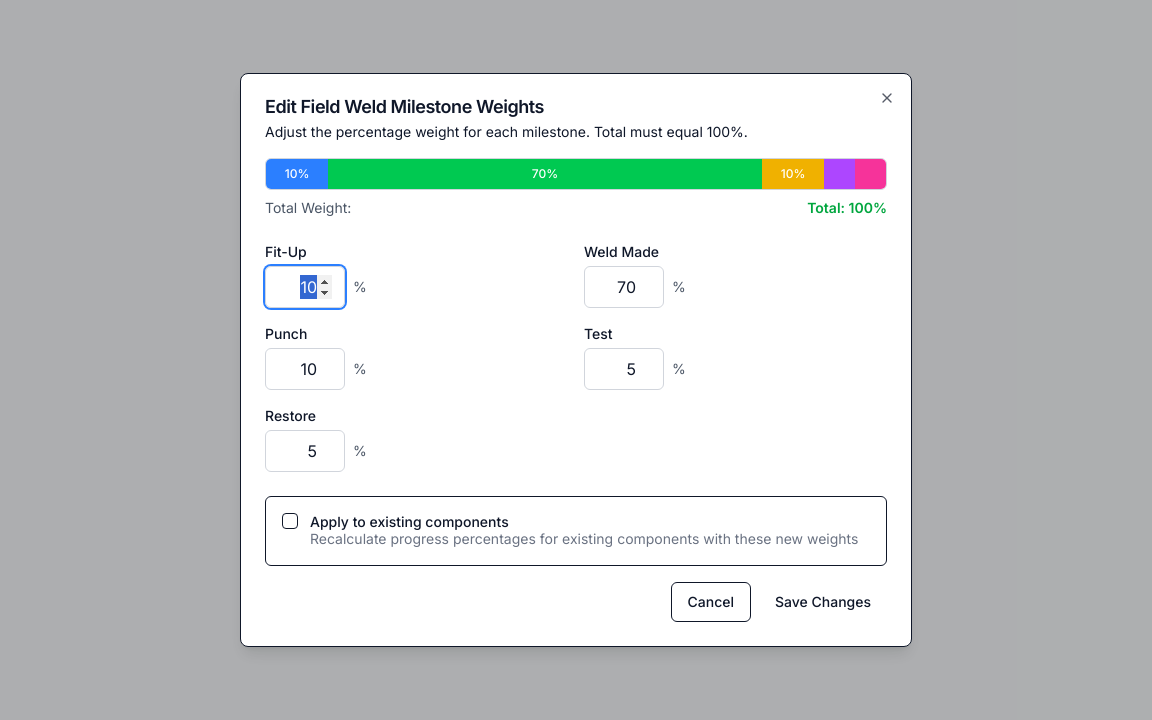
Test: TemplateEditor › displays affected component count when checkbox is checked (US3)
Check "Apply to existing components" checkbox
Click the checkbox named "apply to existing" at (290, 521), box [282,513,298,529]
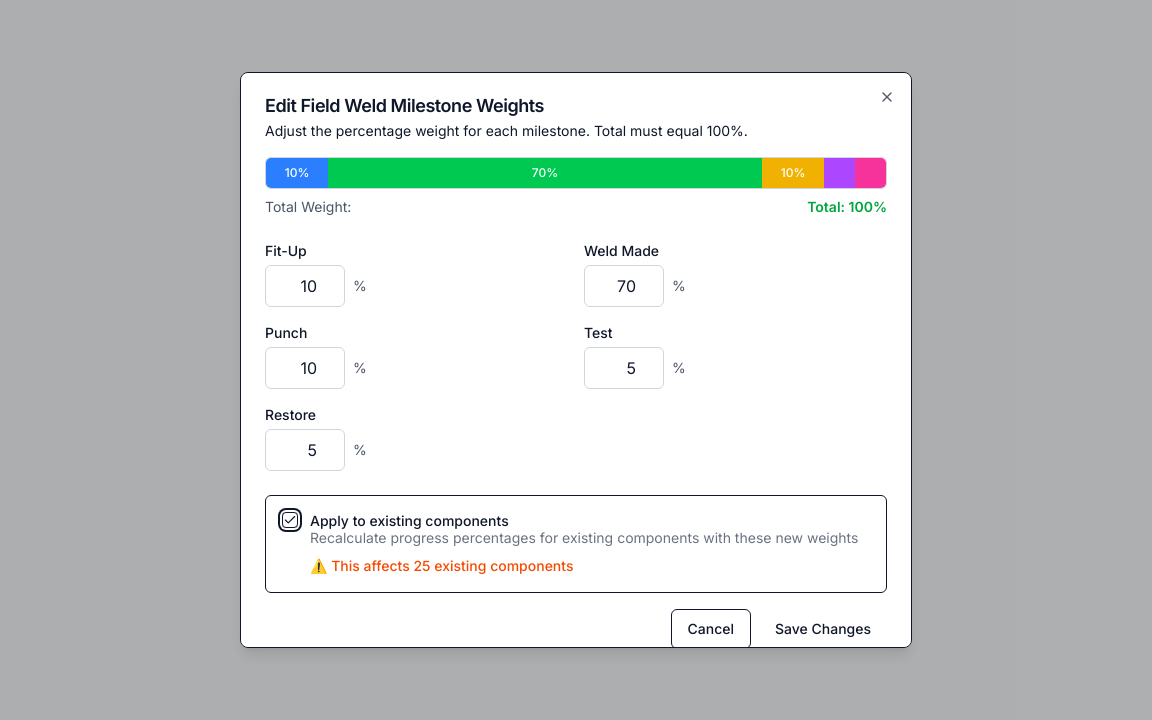
Check: the text "⚠️ This affects 25 existing components" is shown, box [310,557,574,574]
